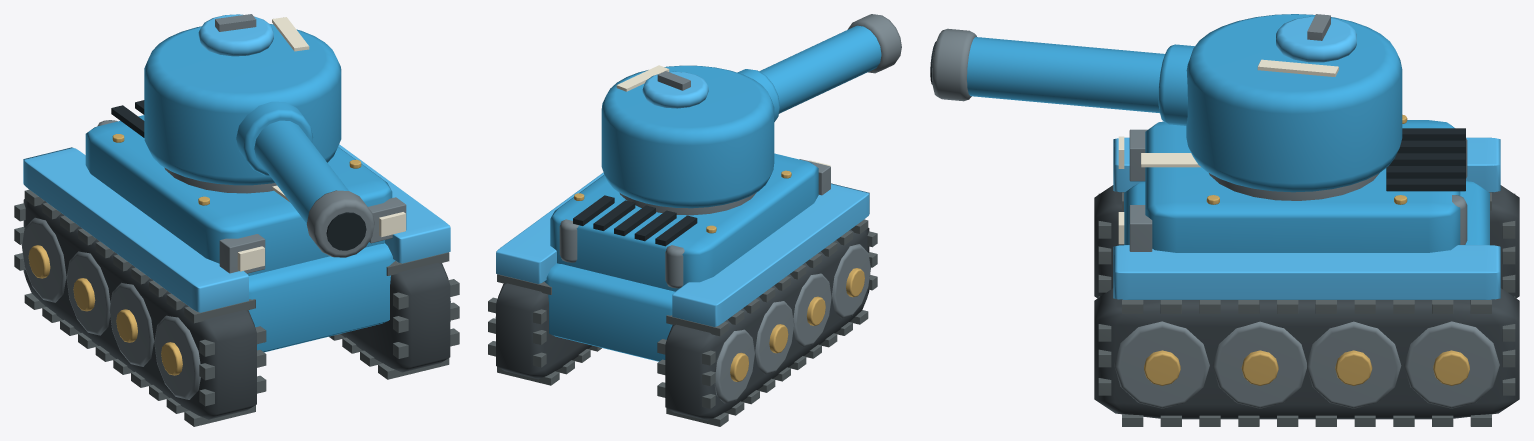
The model's file is tank_01_azure_scout.glb.
The picture shows the model from 3 angles, left to right: view 1: azimuth 30°, elevation 25°; view 2: azimuth 150°, elevation 25°; view 3: azimuth 270°, elevation 25°; orthographic projection. The views are drawn at different scales.
Visible parts, largest first — view 1: Round turret, Upper deck, Track guard, Track belt, Lower hull, Track belt.001, Cannon tube, Track guard.001, Muzzle rim, Road wheel, Road wheel.003, Road wheel.001 (+20 smaller); view 2: Round turret, Upper deck, Track guard, Lower hull, Track belt, Cannon tube, Track belt.001, Track guard.001, Road wheel.003, Road wheel, Road wheel.002, Road wheel.001 (+20 smaller); view 3: Round turret, Upper deck, Track belt.001, Track guard.001, Cannon tube, Road wheel.007, Road wheel.004, Road wheel.006, Road wheel.005, Track belt, Commander hatch, Track guard (+17 smaller).
Part boxes in pixels (x1,y1,x2,y2): Round turret: (144,24,341,185); Upper deck: (85,115,392,275); Track guard: (23,147,248,312); Track belt: (23,199,256,419); Lower hull: (248,243,395,352); Track belt.001: (340,262,450,372); Cannon tube: (254,120,348,223); Track guard.001: (338,144,450,263); Muzzle rim: (306,190,374,257); Road wheel: (154,315,200,399); Road wheel.003: (21,217,66,302); Road wheel.001: (109,282,154,366); Round turret: (601,65,774,208); Upper deck: (550,153,818,291); Track guard: (672,183,869,326); Lower hull: (544,263,675,361); Track belt: (665,228,869,420); Cannon tube: (759,25,881,113); Track belt.001: (496,283,591,379); Track guard.001: (496,172,604,283); Road wheel.003: (714,329,754,403); Road wheel: (832,244,870,318); Road wheel.002: (755,301,794,374); Road wheel.001: (793,273,831,346); Round turret: (1186,14,1402,192); Upper deck: (1145,120,1460,252); Track belt.001: (1094,288,1519,419); Track guard.001: (1113,245,1500,299); Cannon tube: (967,37,1164,113); Road wheel.007: (1404,321,1499,408); Road wheel.004: (1114,321,1209,408); Road wheel.006: (1307,321,1401,408); Road wheel.005: (1212,321,1306,408); Track belt: (1094,185,1519,298); Commander hatch: (1276,16,1356,62); Track guard: (1113,137,1500,192).
Size of the model in its own units: 1.2 by 1.31 by 2.08.
